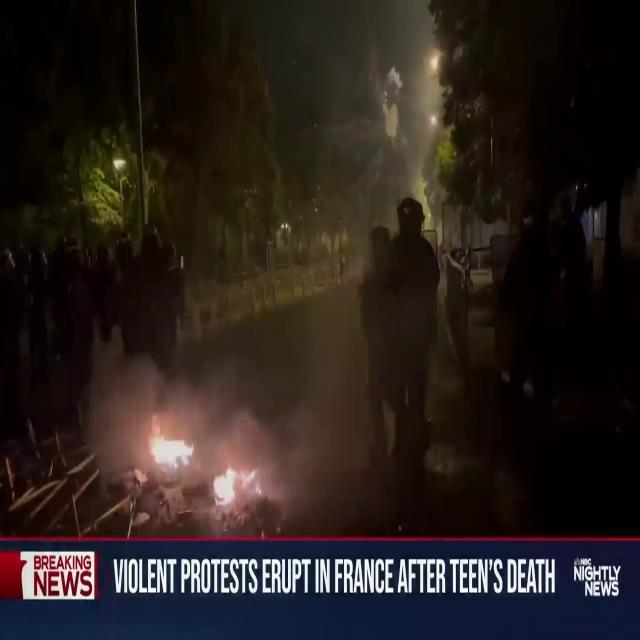Fire: (136, 417, 266, 509), (208, 453, 268, 508), (140, 420, 196, 478)
Smoke: (86, 260, 384, 510)
